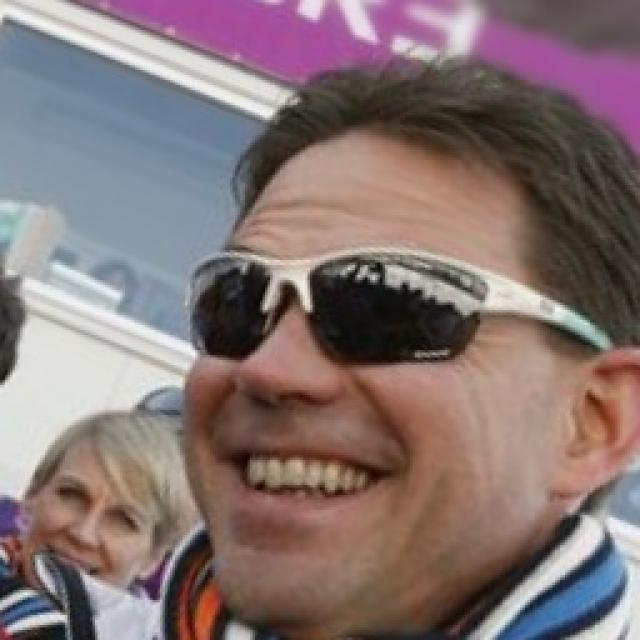glasses: (176, 239, 614, 377)
